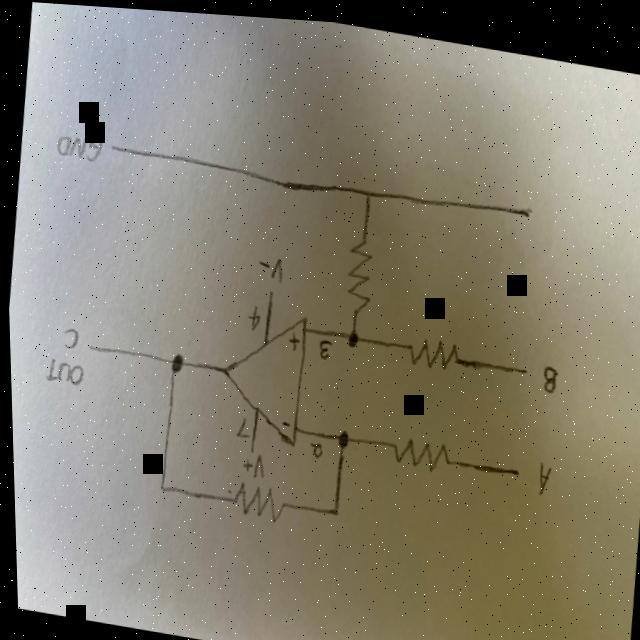junction: (159, 338, 188, 382), (330, 419, 356, 454), (340, 318, 366, 352), (318, 491, 343, 524), (356, 173, 380, 207), (151, 469, 172, 500)
resistor: (385, 421, 458, 473), (220, 475, 292, 526), (400, 322, 465, 370), (340, 230, 377, 314)
terminal: (509, 192, 546, 222), (499, 352, 531, 376), (104, 135, 133, 160), (496, 453, 524, 477), (79, 335, 105, 360)
text: (50, 124, 105, 167), (42, 353, 87, 392), (536, 352, 561, 391), (530, 452, 551, 492), (54, 322, 80, 354), (267, 251, 286, 284), (311, 333, 332, 360), (230, 413, 250, 440), (248, 449, 265, 479), (244, 300, 261, 328), (306, 435, 324, 459), (255, 248, 272, 272), (284, 328, 300, 350), (237, 454, 251, 473), (277, 410, 290, 429)
